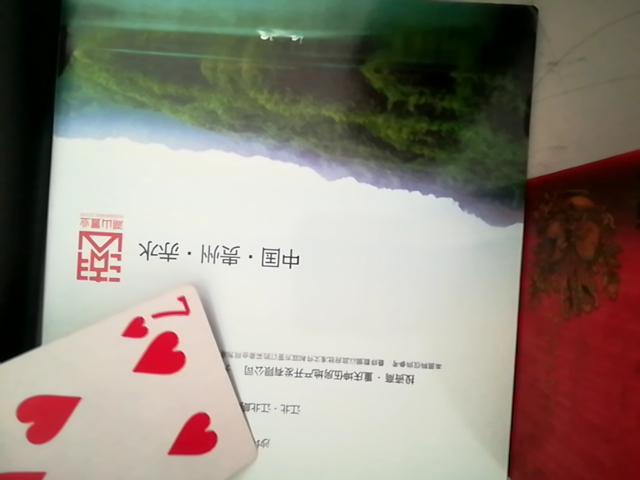hx 7: (0, 277, 248, 480)
